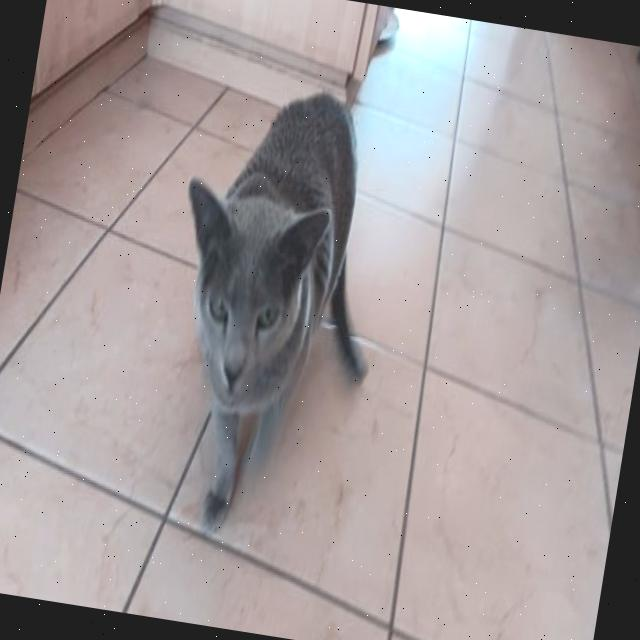russian_blue_cat: (152, 170, 342, 431)
